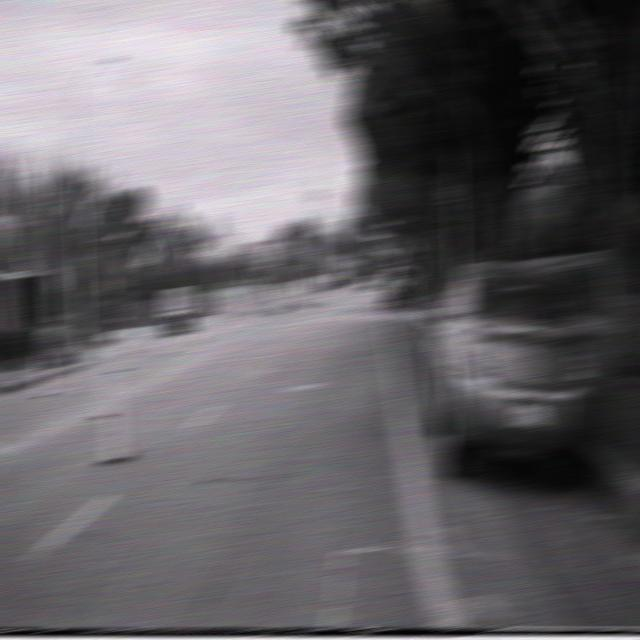pedestrianCrossing: (256, 232, 277, 257)
